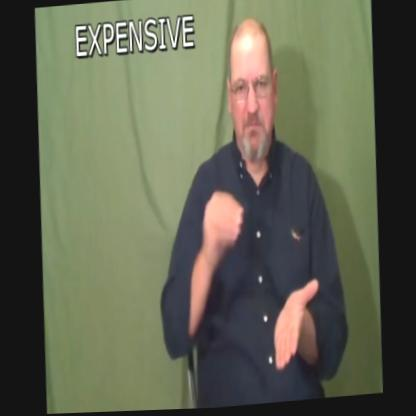Expensive: (147, 8, 359, 412)
